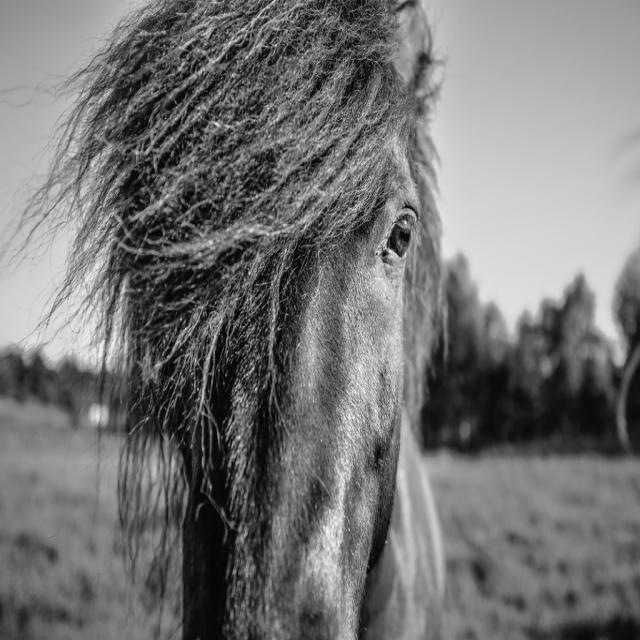Horse: (0, 0, 449, 639)
